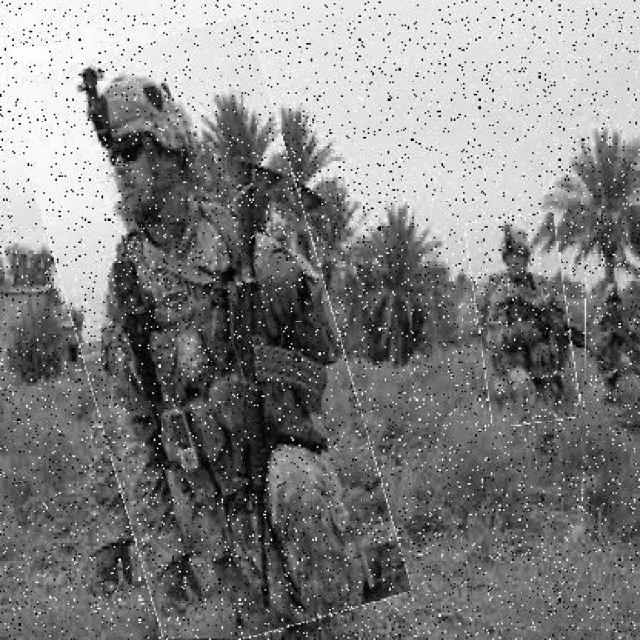Person: (44, 26, 376, 640), (473, 217, 575, 426), (587, 281, 640, 404)
